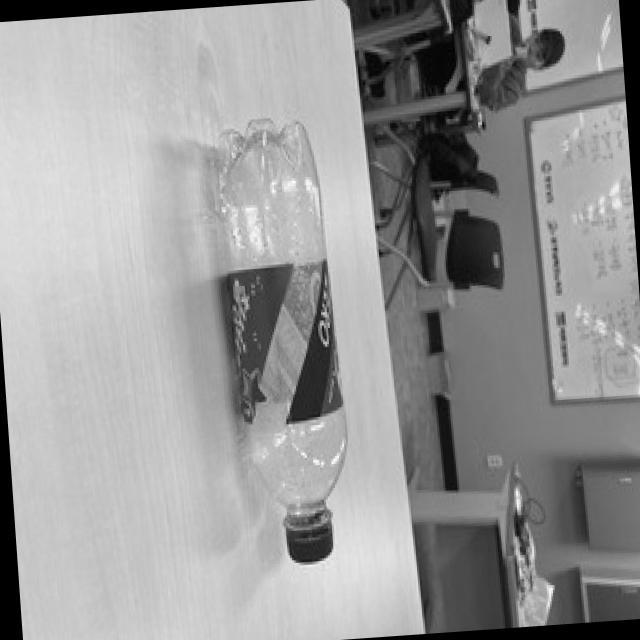good: (200, 110, 361, 574)
